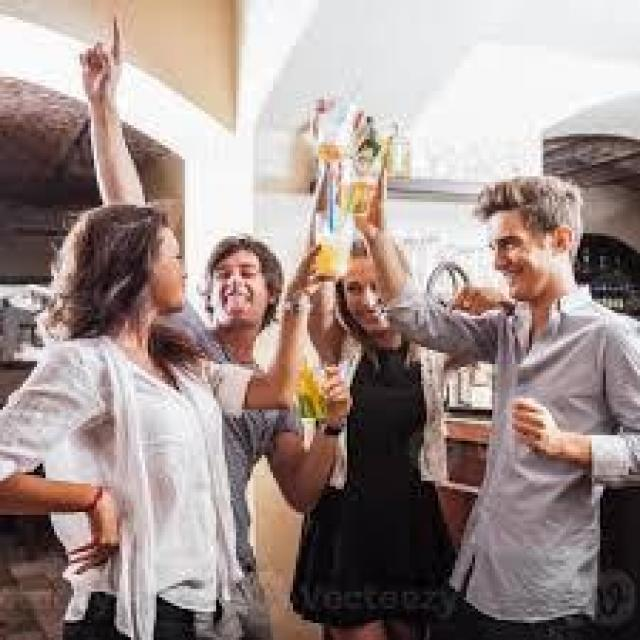person: (6, 168, 236, 637), (438, 159, 634, 637), (83, 26, 304, 381), (290, 216, 452, 603)
